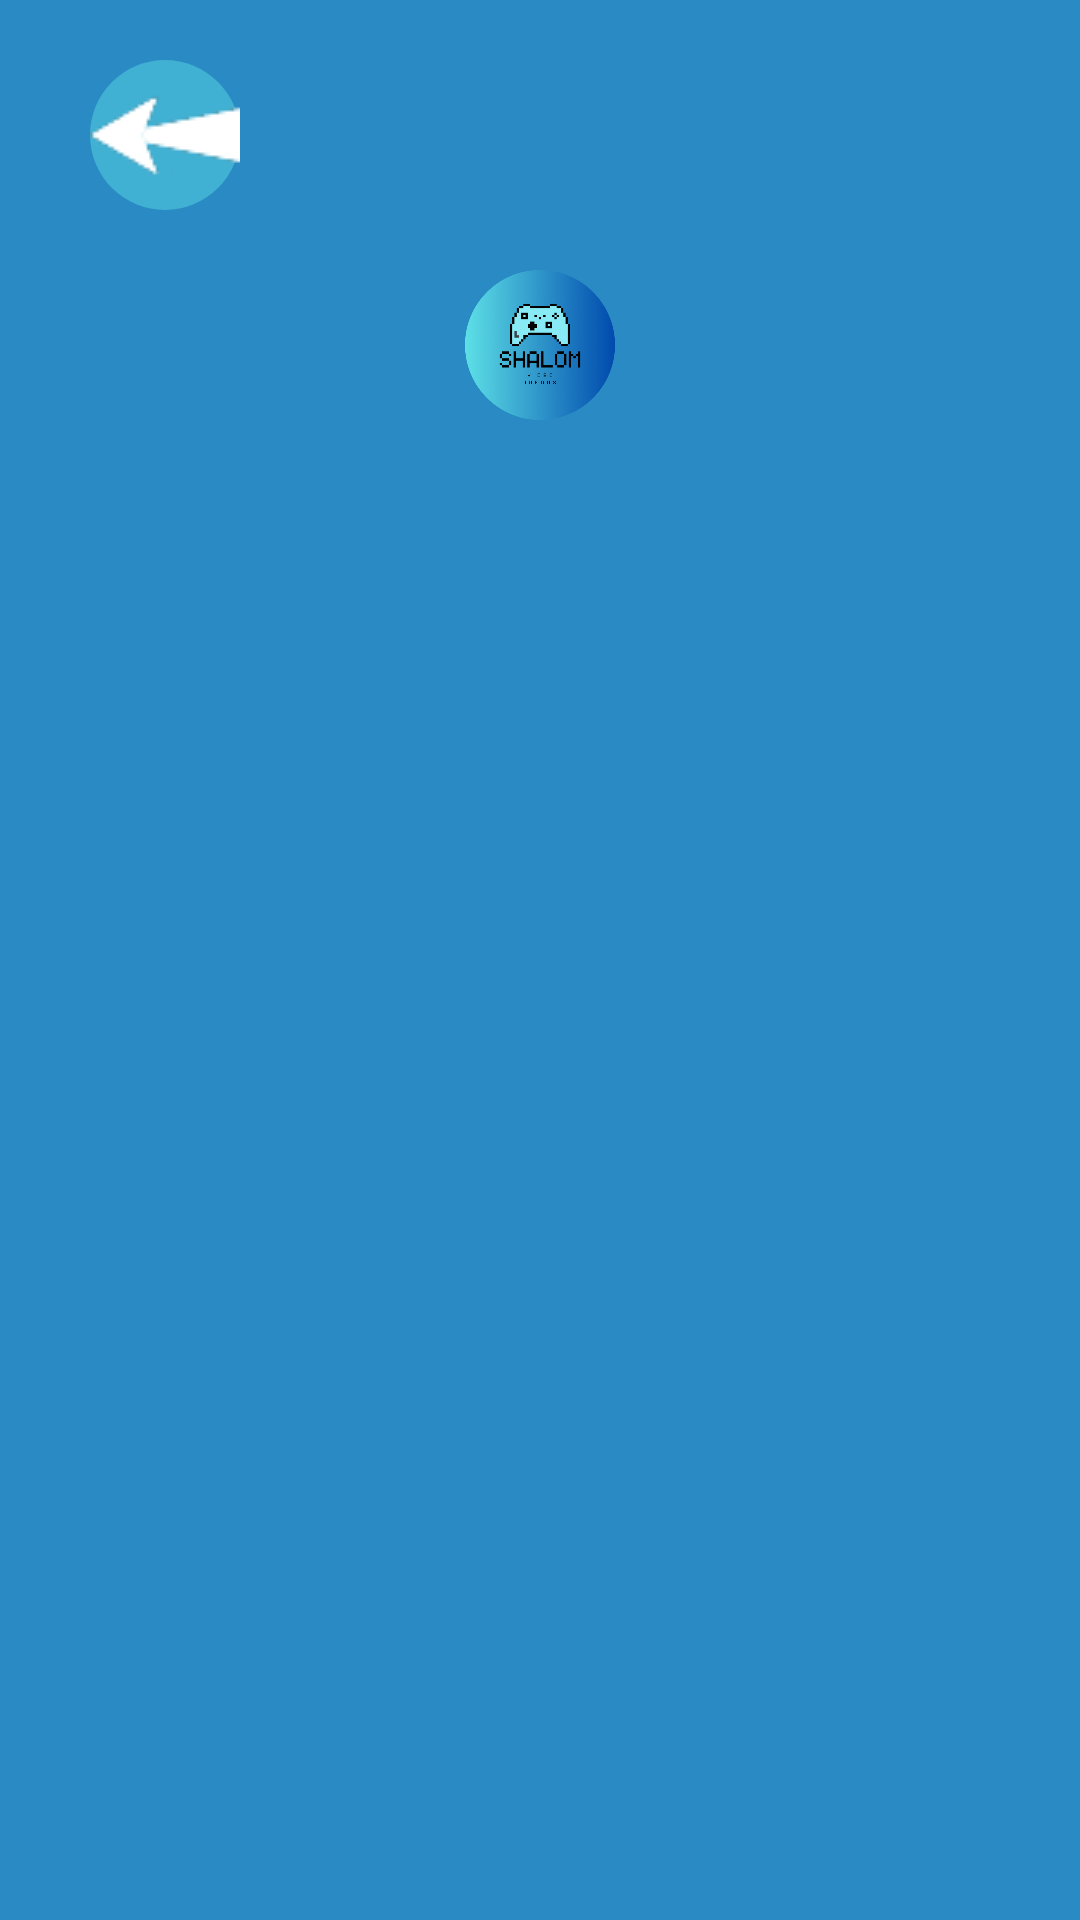

Point at icon controls on the screen. Image size 1080 × 1920, points as (x,y).
flechaatras: (165,135)
